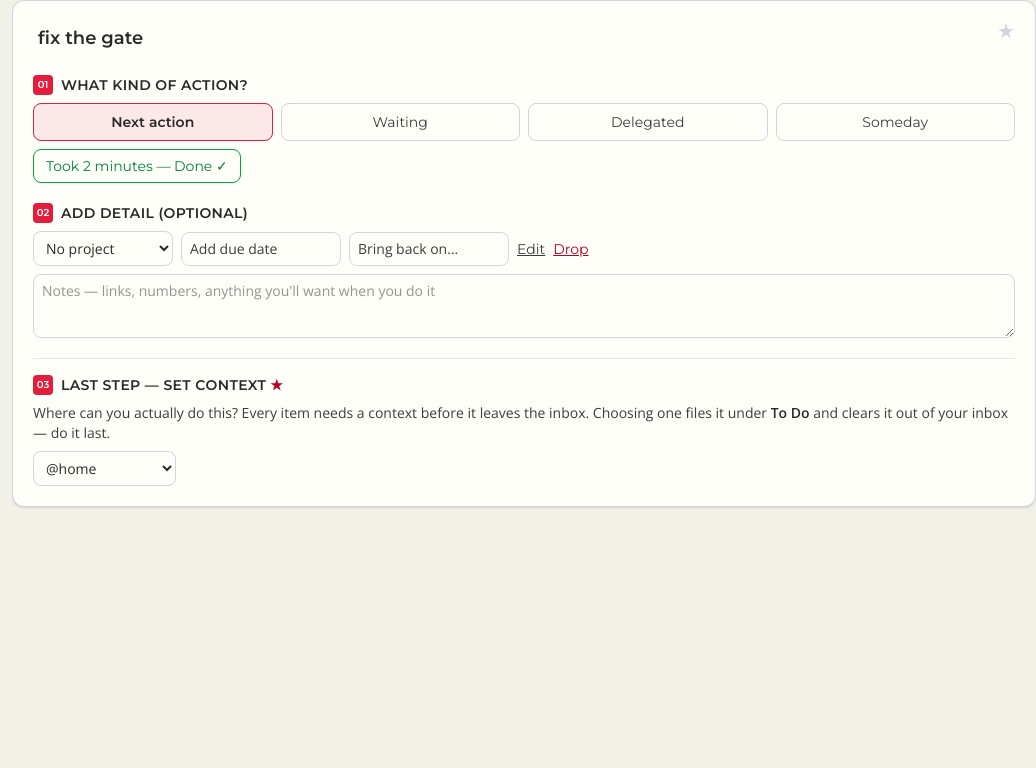
#2925 — filing an inbox item under a context › says it is still filed — not still marked done — when the revert is rejected
Select "@home" in the dropdown named "Set context and file this todo" at point(104, 468), box [33,451,176,486]
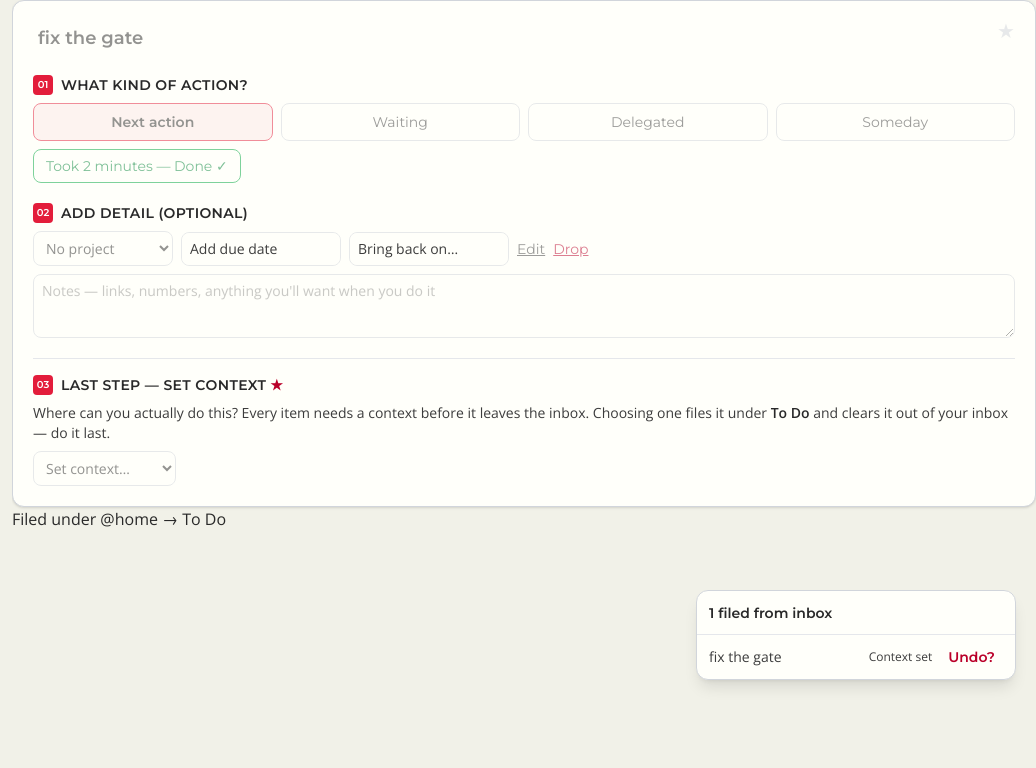
Click the button "Undo?" at point(972, 657), box [940,643,1003,671]
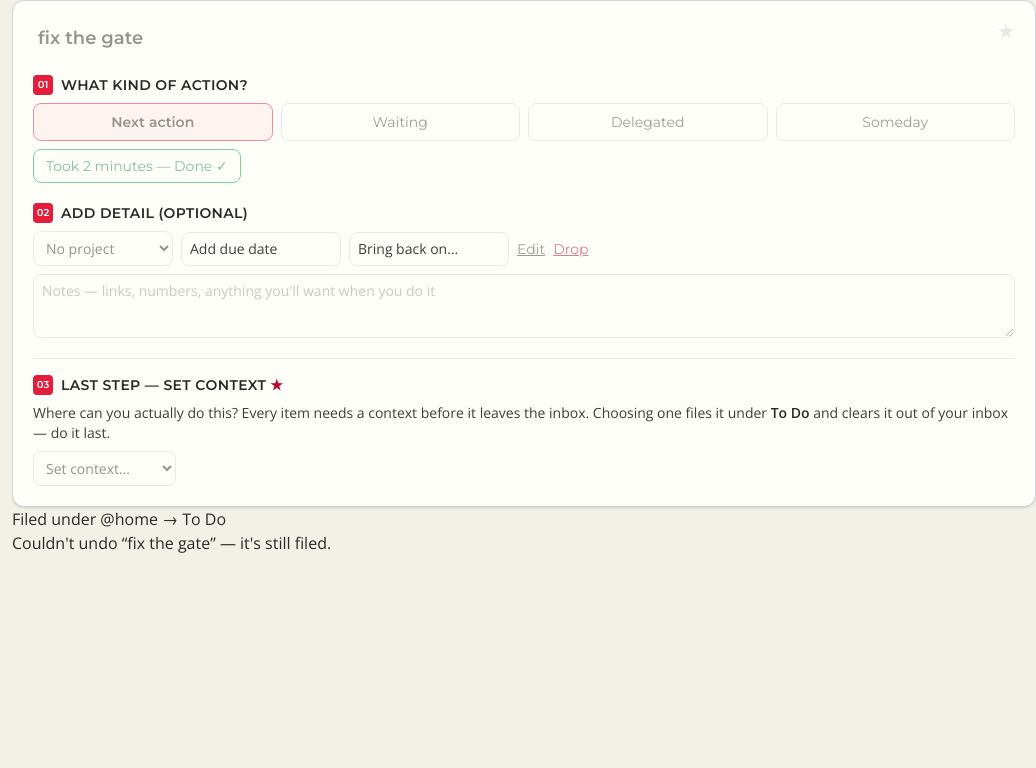
Expected: the text "it's still filed" is shown, [12,532,331,554]
